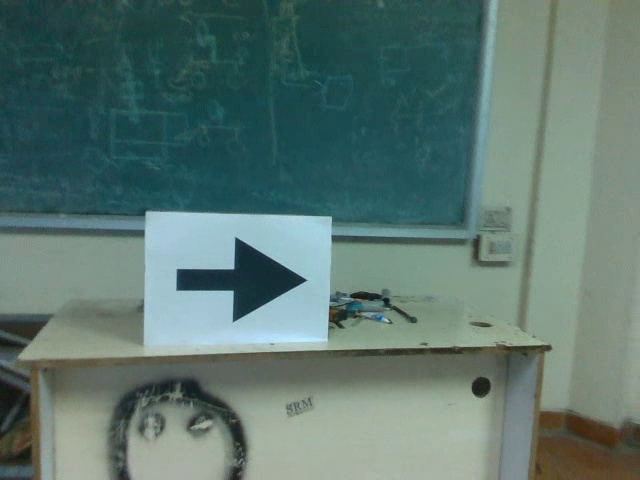Right: (166, 228, 316, 326)
